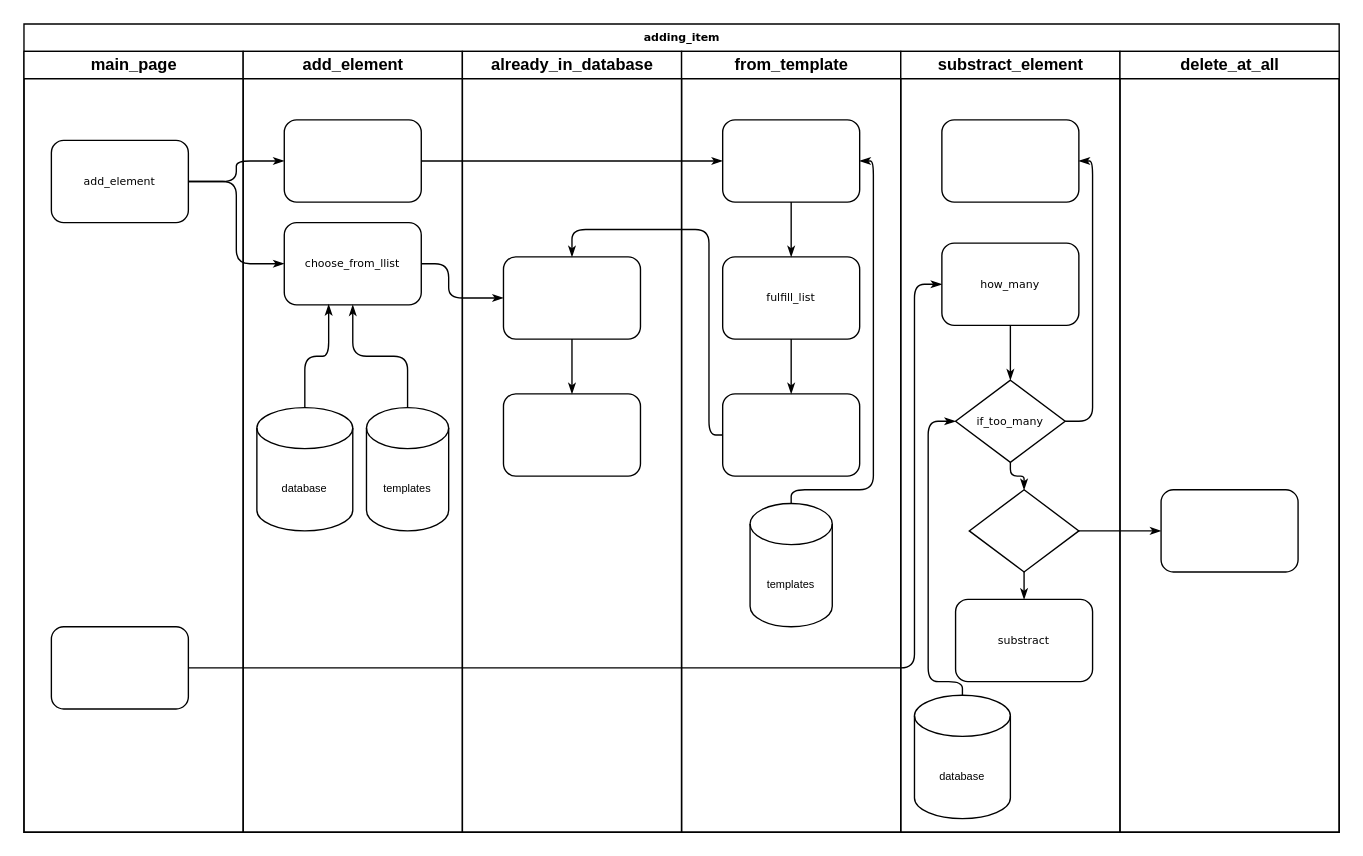
Image size: 1363x856. Some labels were removed from this diagram. The shapes that lost their labels are listed below. From the top down, each one's centre as x and y in pixels, then its label:
At [352,160]: "completly_new".
At [790,160]: "choose_from_list".
At [1010,160]: "exeption".
At [571,297]: "how_many_to_add?".
At [571,434]: "save_or_back".
At [790,434]: "accept_or_back".
At [1023,530]: "is_all_of_it".
At [1229,530]: "delete_record".
At [119,667]: "delete_element".
